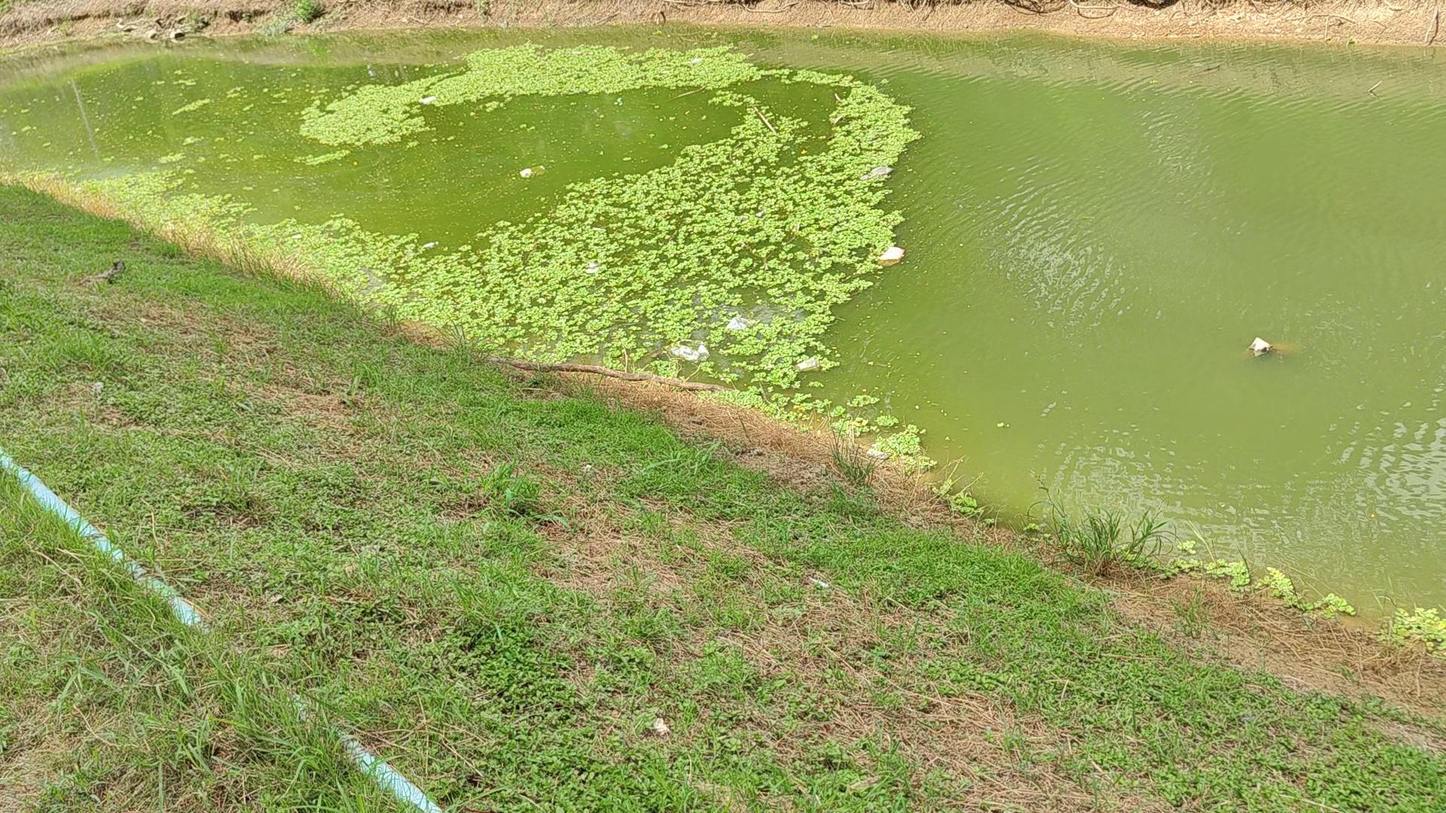trash: (672, 343, 709, 361), (878, 245, 904, 264), (1249, 336, 1273, 356), (727, 316, 754, 330), (796, 357, 819, 371), (862, 166, 892, 176), (586, 260, 599, 273), (520, 167, 534, 178), (421, 96, 436, 104), (423, 241, 438, 248), (691, 57, 702, 63)
